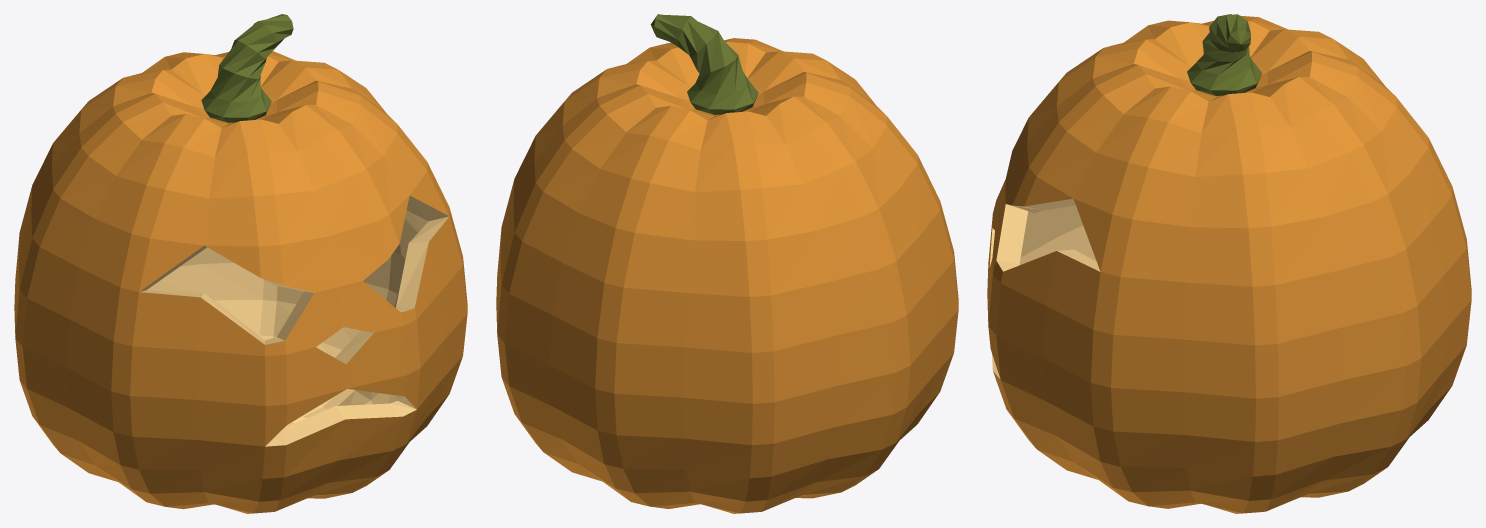
File: Pumpkin_Lantern_2.glb
The picture shows the model from 3 angles, left to right: view 1: azimuth 30°, elevation 25°; view 2: azimuth 150°, elevation 25°; view 3: azimuth 270°, elevation 25°; orthographic projection. The views are drawn at different scales.
Bounding box in the file's own units: 21.39 × 22.23 × 21.11.
Materials: 1 (1 with a texture image).
